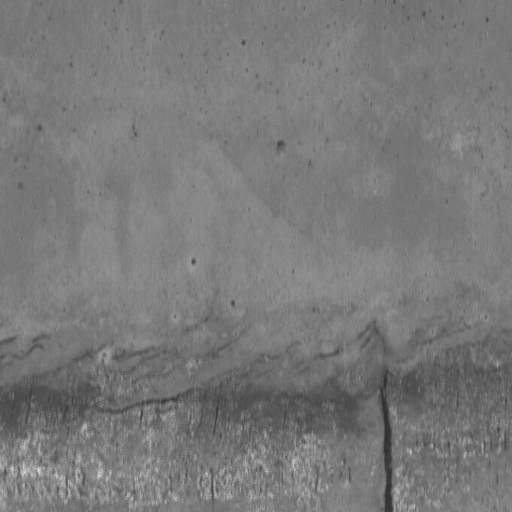zongxiangliewen: (374, 364, 404, 512)
